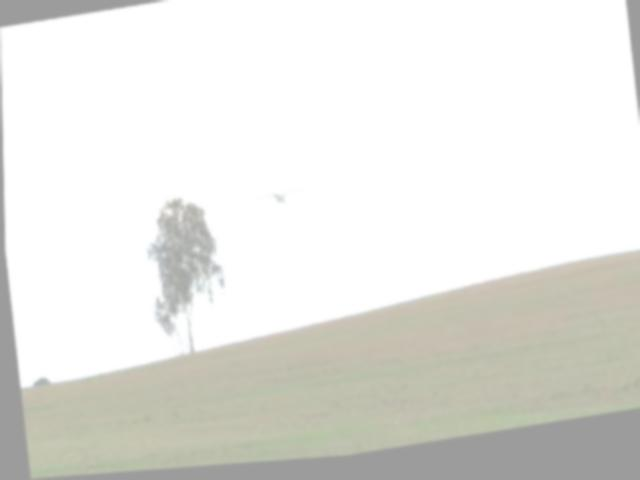uav: (241, 185, 315, 215)
